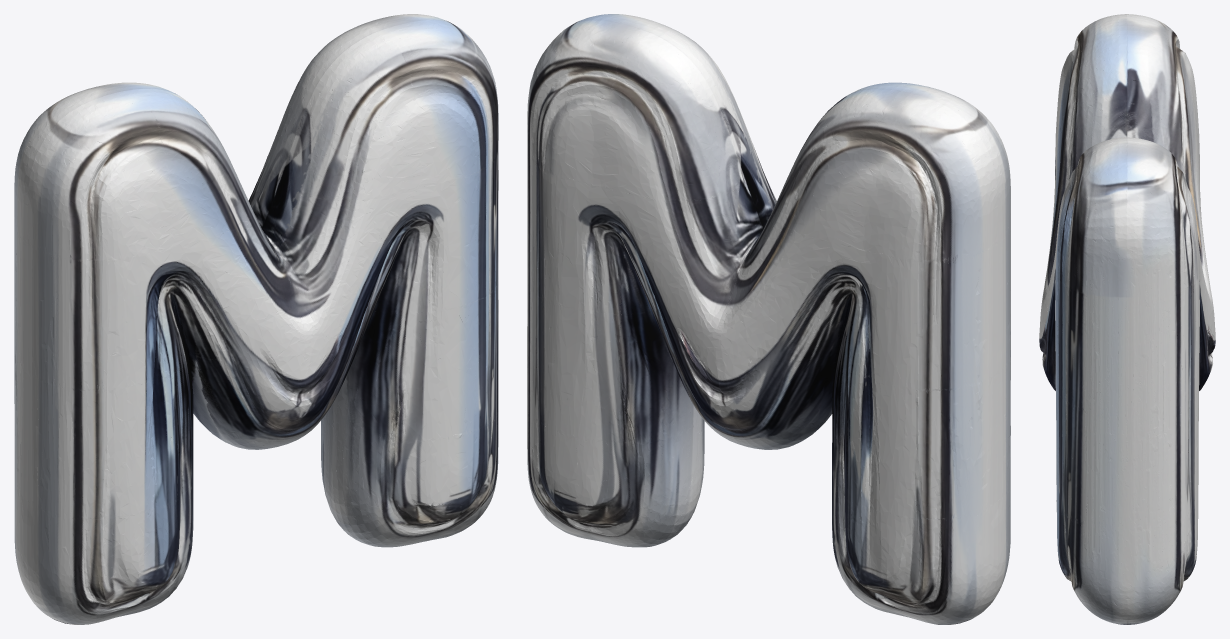
The model's file is letter-m.glb.
The picture shows the model from 3 angles, left to right: view 1: azimuth 30°, elevation 25°; view 2: azimuth 150°, elevation 25°; view 3: azimuth 270°, elevation 25°; orthographic projection. The views are drawn at different scales.
Parts seen in each view (by area): view 1: tmp0w1itujr.obj; view 2: tmp0w1itujr.obj; view 3: tmp0w1itujr.obj.
Part boxes in pixels (box(x1,y1,x2,y2)): tmp0w1itujr.obj: box(14, 14, 498, 624); tmp0w1itujr.obj: box(527, 14, 1010, 624); tmp0w1itujr.obj: box(1039, 14, 1215, 624).
Bounding box in the file's own units: 1.42 × 1.54 × 0.5381.
1 material, 1 textured.
